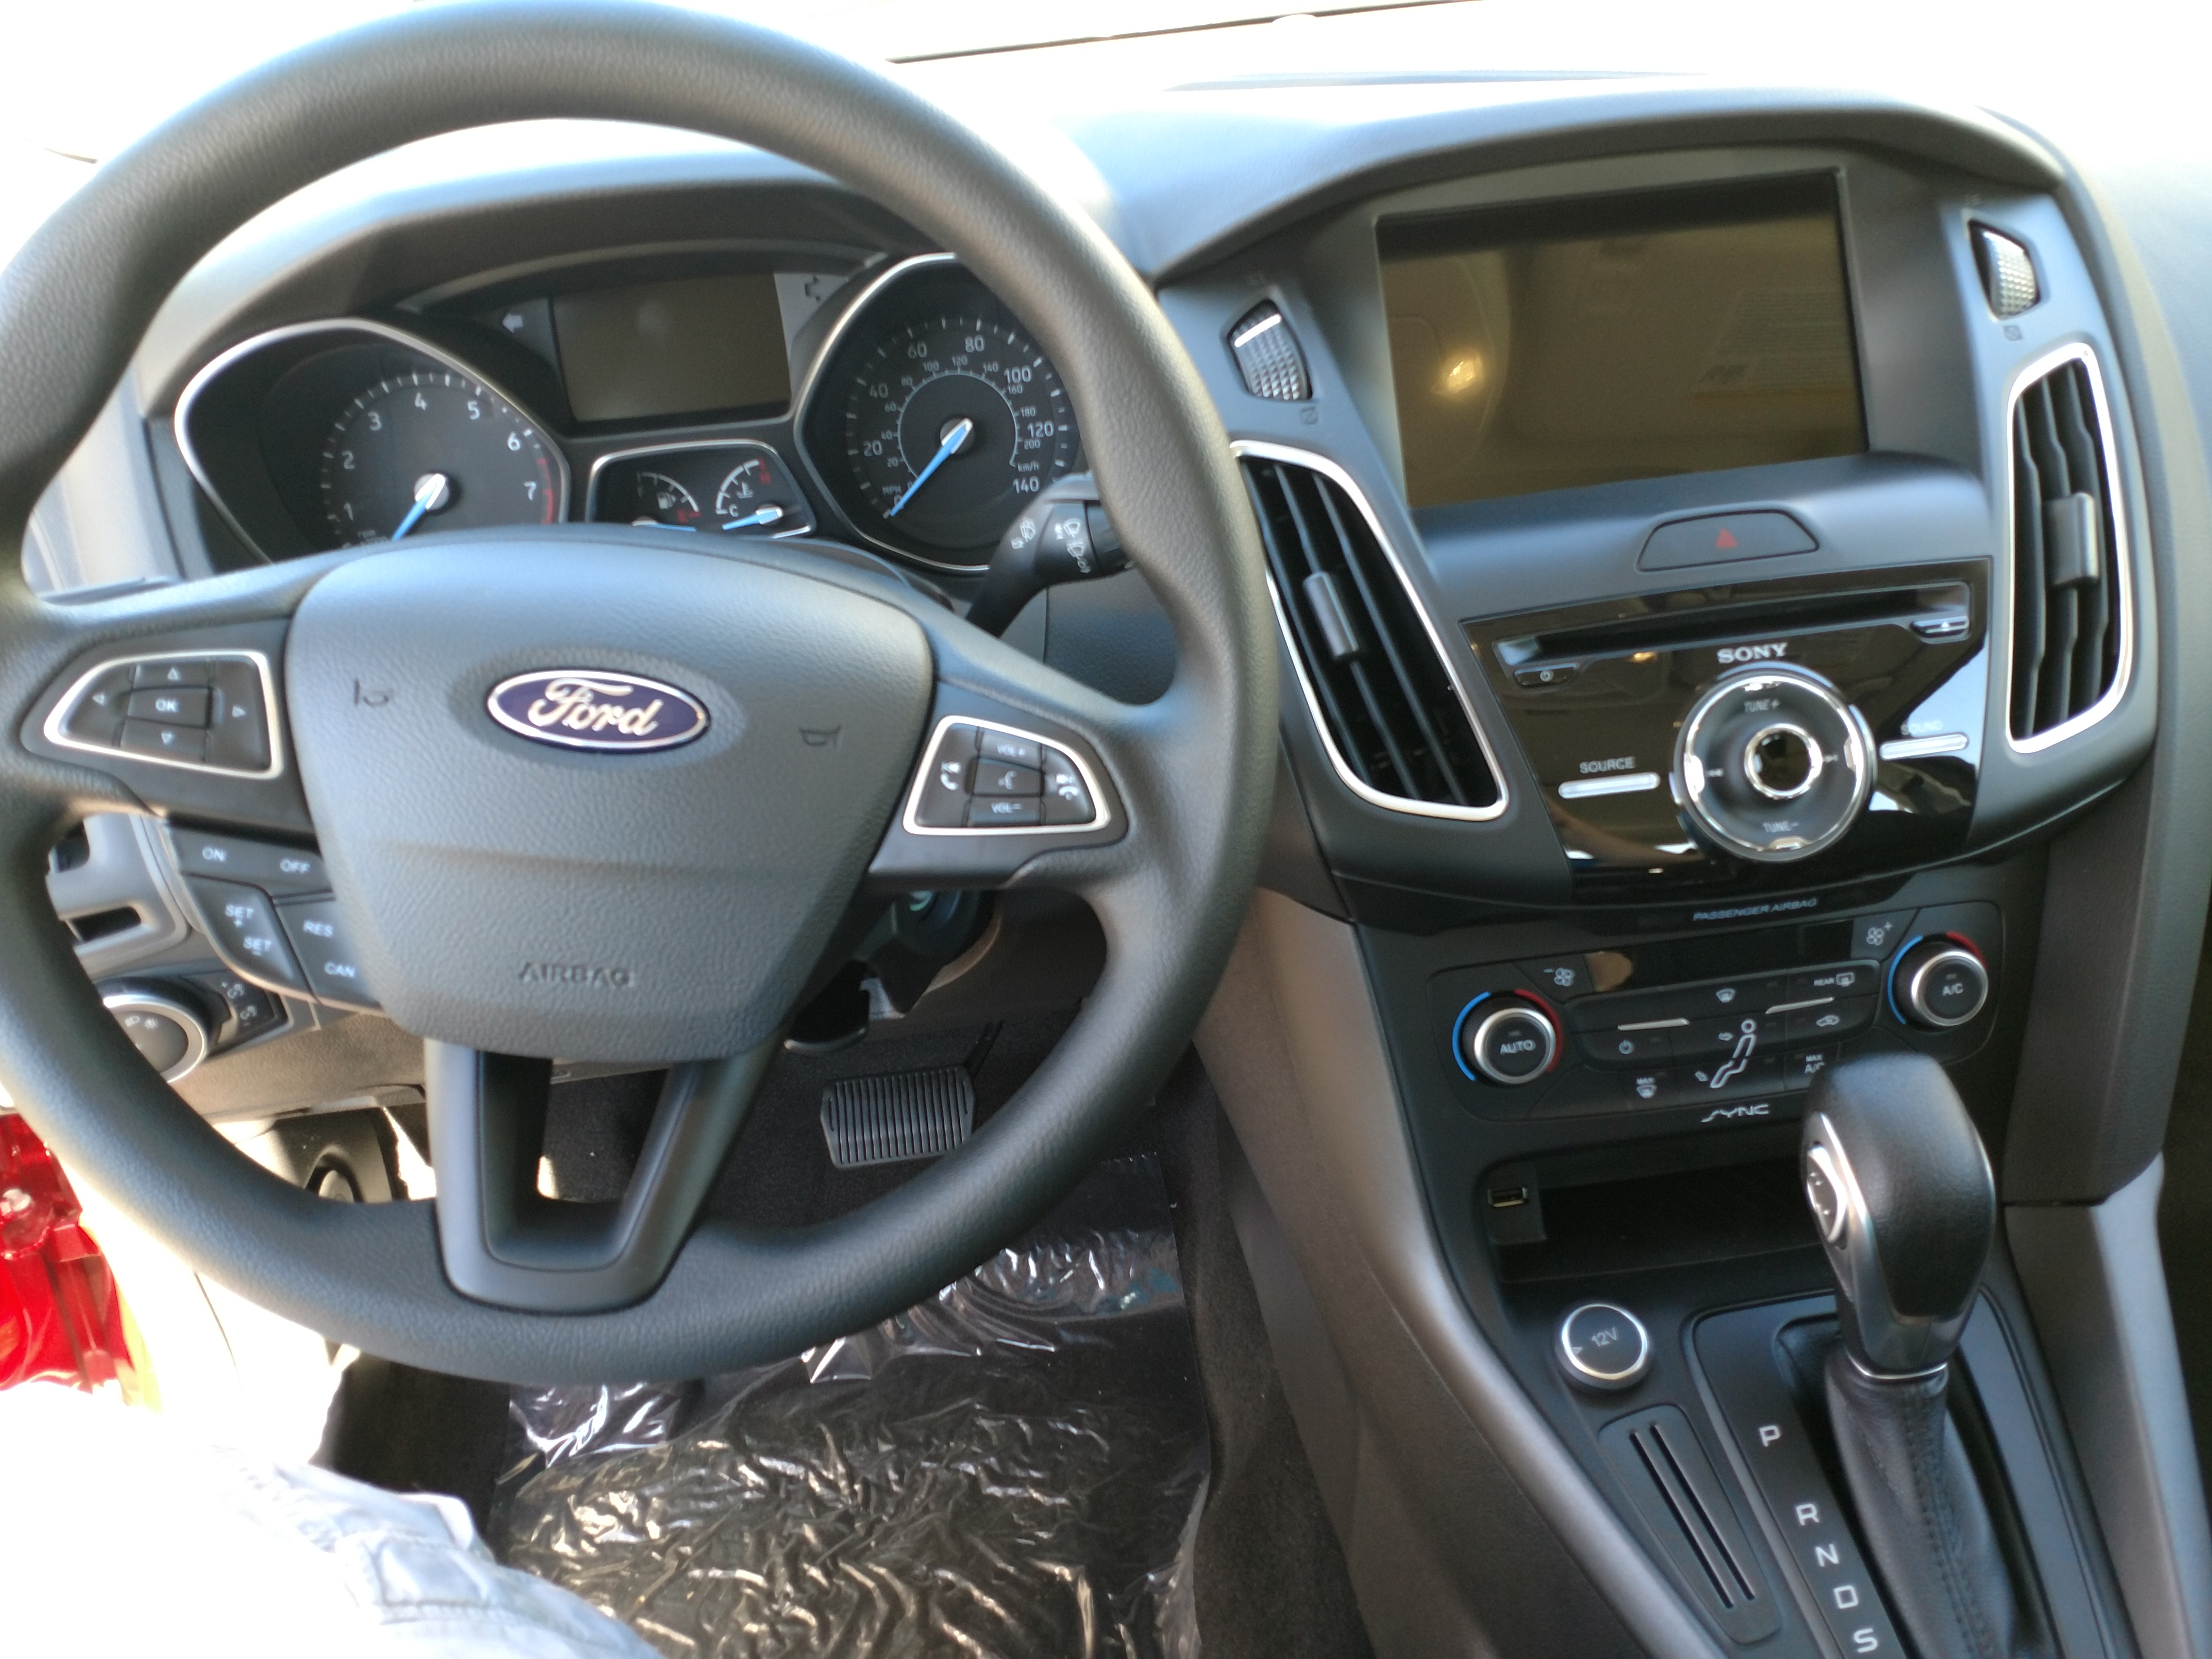Ford: (477, 659, 721, 767)
